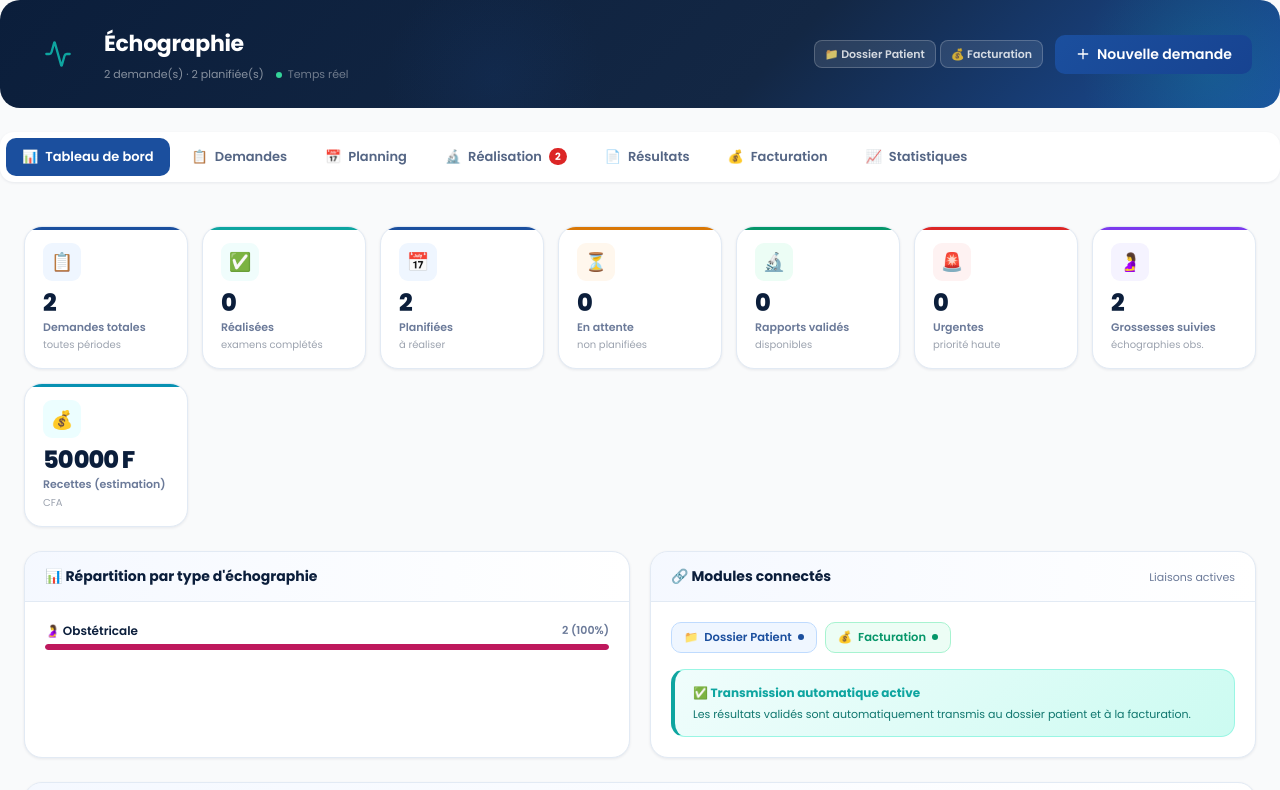
it: l'en-tête affiche la vraie semaine courante et navigue réellement
Step 1. Click the button "📅 Planning" → (366, 157), box 309,138 -> 423,176
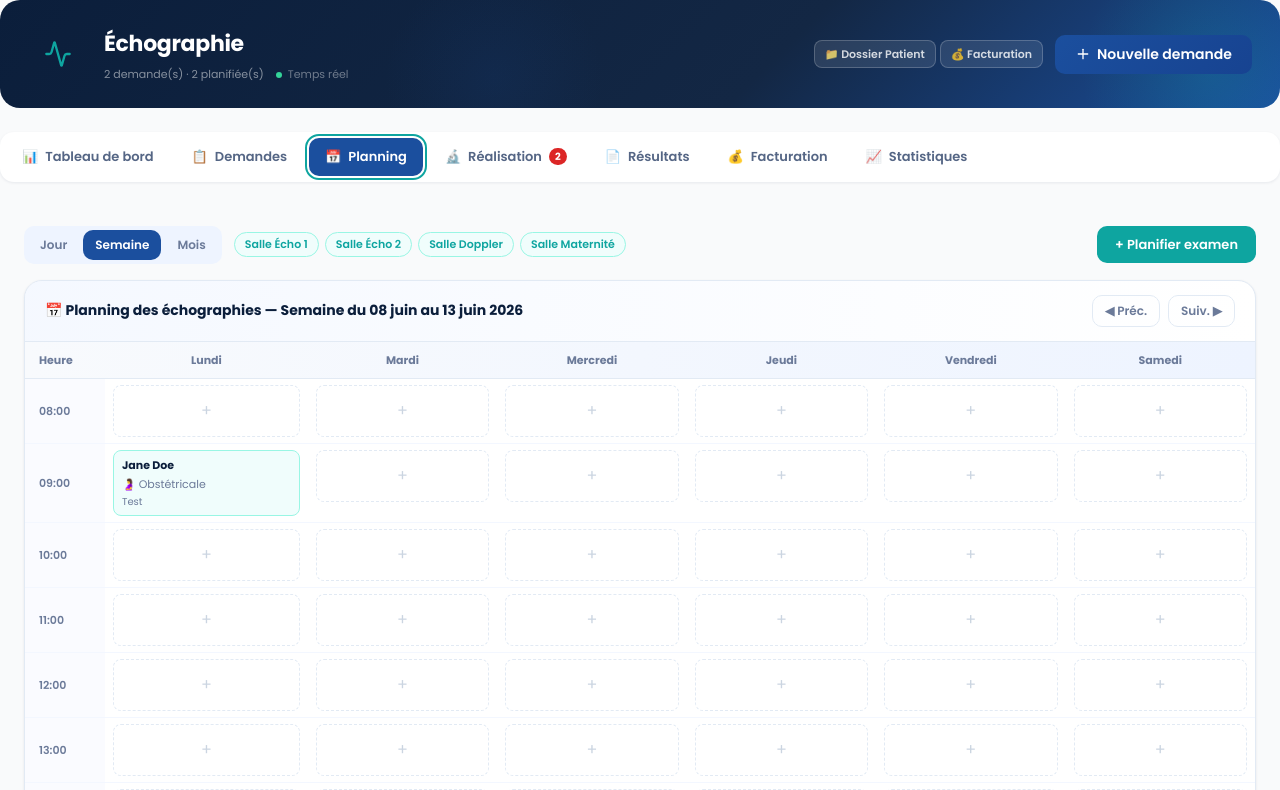
Result: the heading "08 juin au 13 juin 2026" is shown at 369,300 -> 523,320
Step 2. Click the button "Suiv. ▶" → (1202, 310), box 1168,294 -> 1235,326
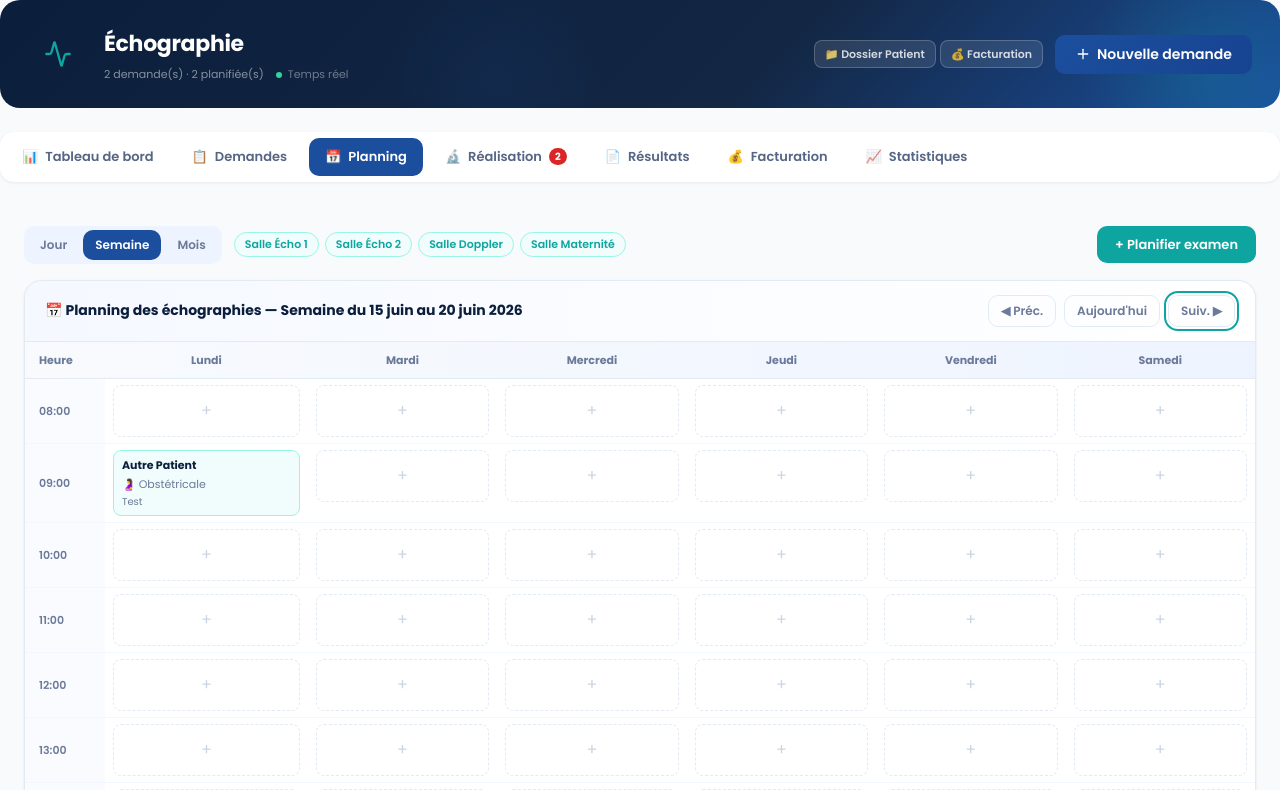
Result: the heading "15 juin au 20 juin 2026" is shown at 369,300 -> 523,320
Step 3. Click the button "◀ Préc." → (1022, 310), box 988,294 -> 1056,326
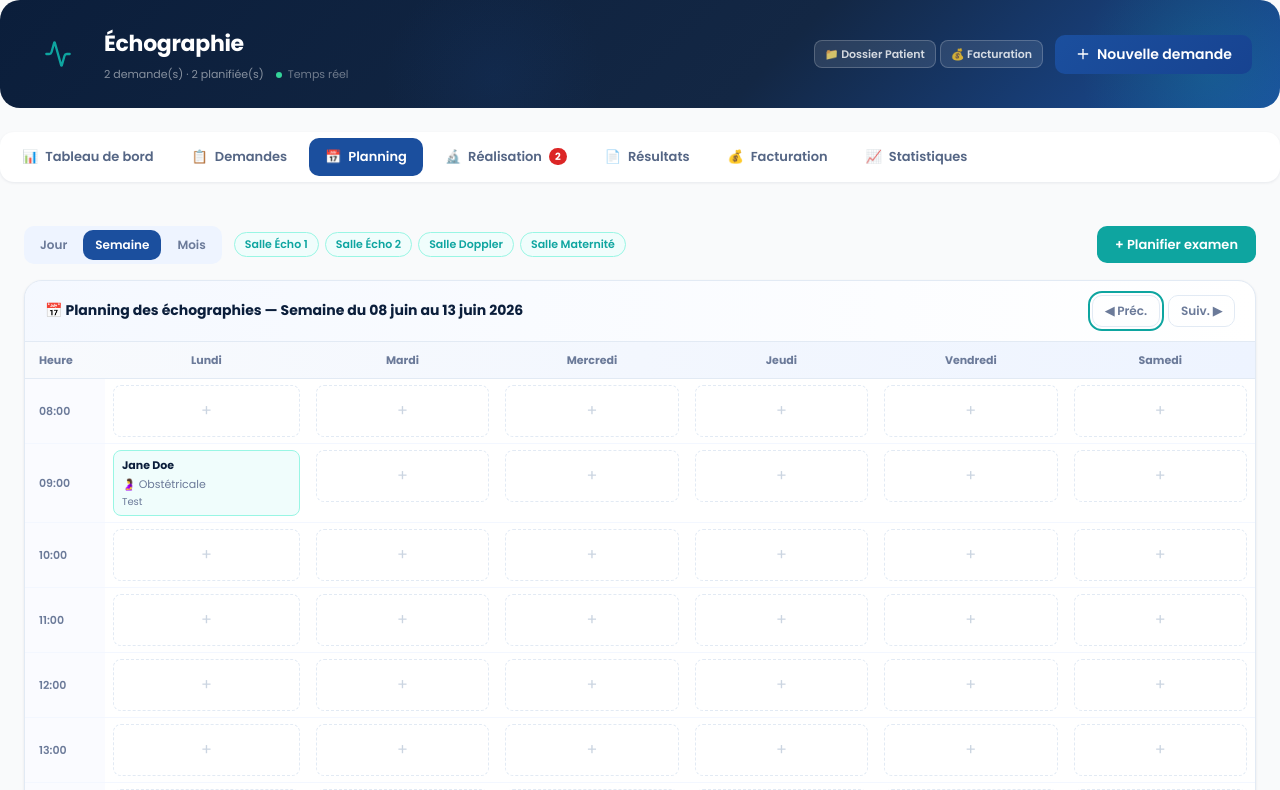
Step 4. Click the button "◀ Préc." → (1126, 310), box 1092,294 -> 1160,326
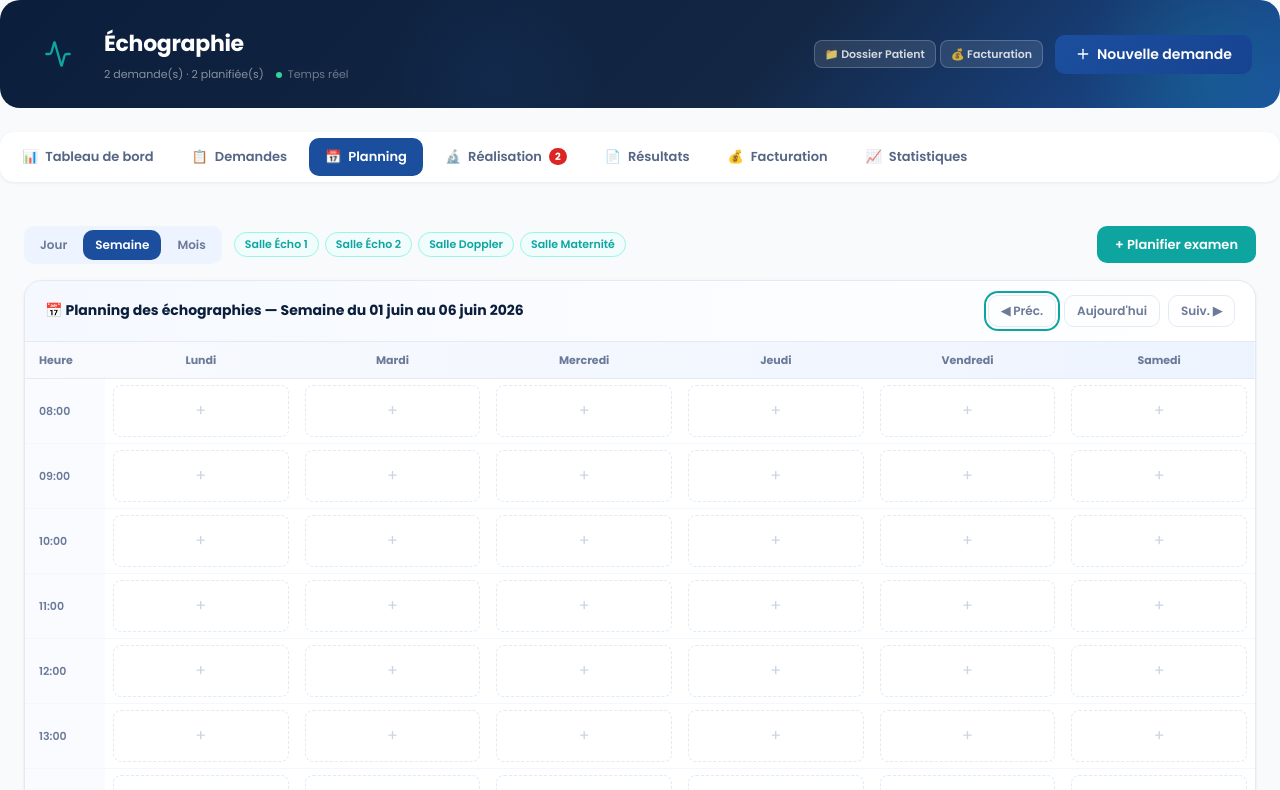
Result: the heading "01 juin au 06 juin 2026" is shown at 369,300 -> 524,320
